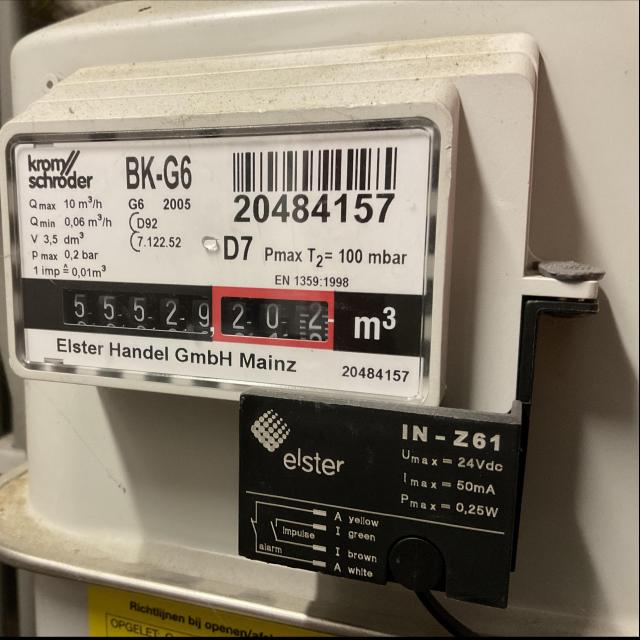gaz_meter: (7, 138, 428, 400)
indication: (55, 277, 335, 348)
